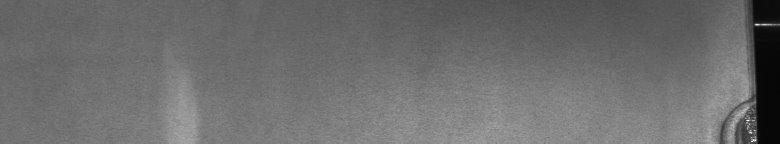hb: (707, 96, 744, 136)
